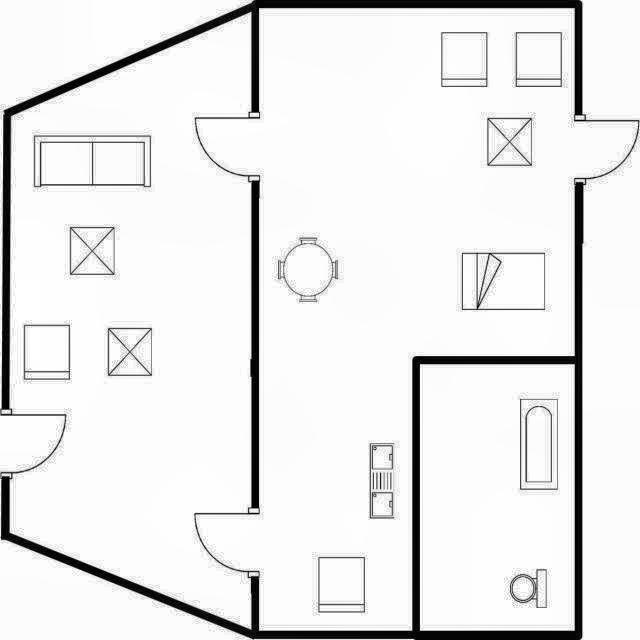room: (259, 8, 575, 631), (10, 11, 251, 630), (420, 364, 575, 631)
